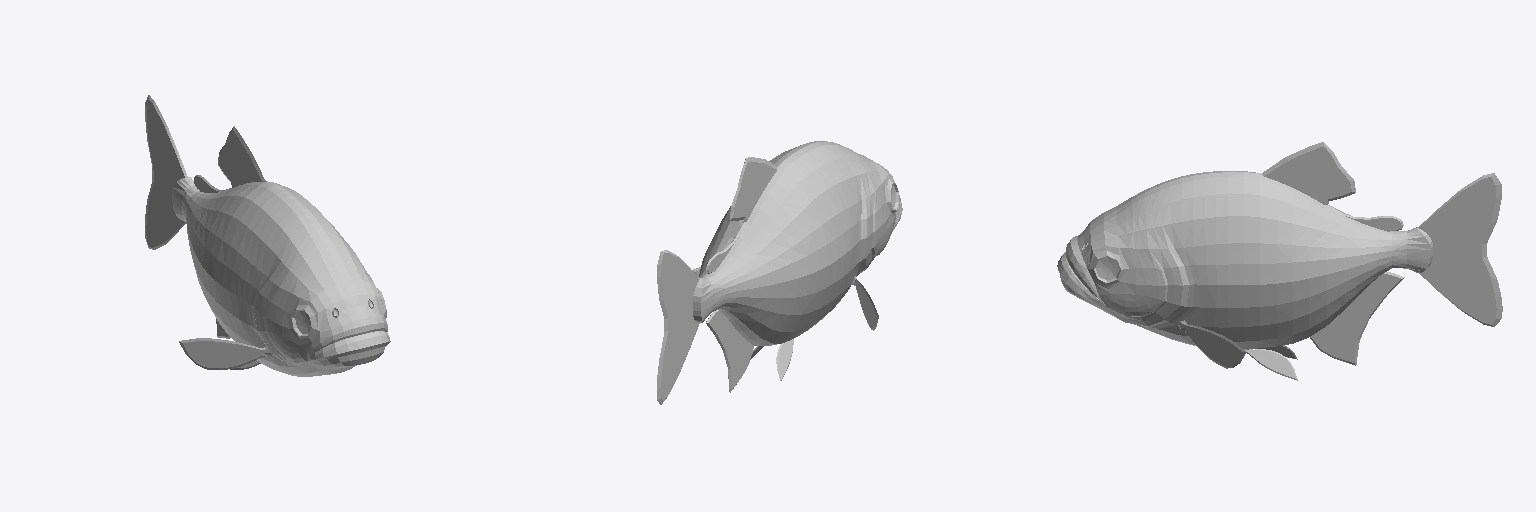
Rendered from piranha_piranha.obj.
3 renders of one model, left to right at view 1: azimuth 30°, elevation 25°; view 2: azimuth 150°, elevation 25°; view 3: azimuth 270°, elevation 25°, orthographic.
Bounding box in the file's own units: 0.1335 × 0.1547 × 0.2731.